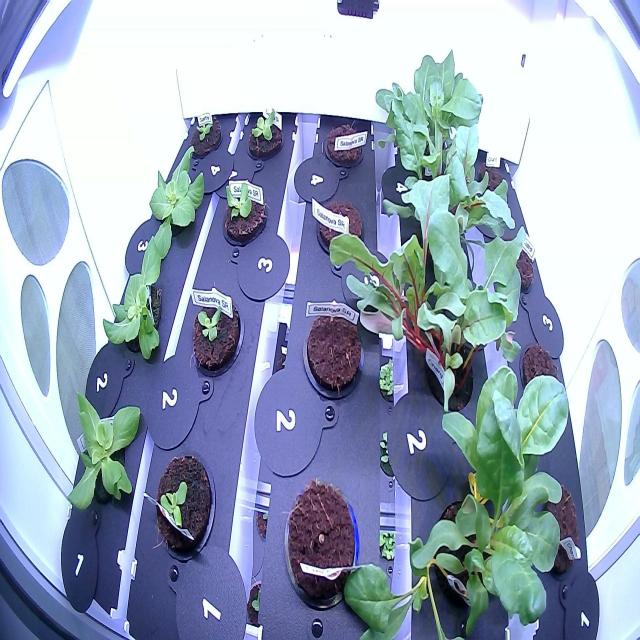pod: (274, 467, 364, 618), (297, 293, 367, 404), (518, 464, 580, 586), (310, 183, 368, 274), (514, 334, 568, 414), (493, 224, 538, 306), (317, 112, 368, 182), (473, 147, 513, 205)
young: (54, 379, 148, 517), (95, 231, 178, 365), (145, 439, 220, 565), (142, 134, 210, 248), (185, 282, 246, 379), (216, 172, 274, 252), (184, 97, 228, 163), (243, 102, 286, 168)
